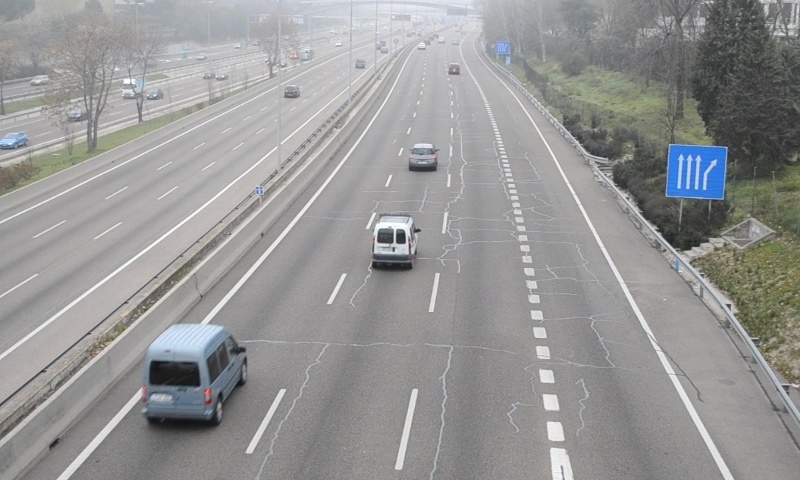car: (408, 142, 437, 170)
van: (144, 324, 246, 420), (372, 216, 417, 267)
